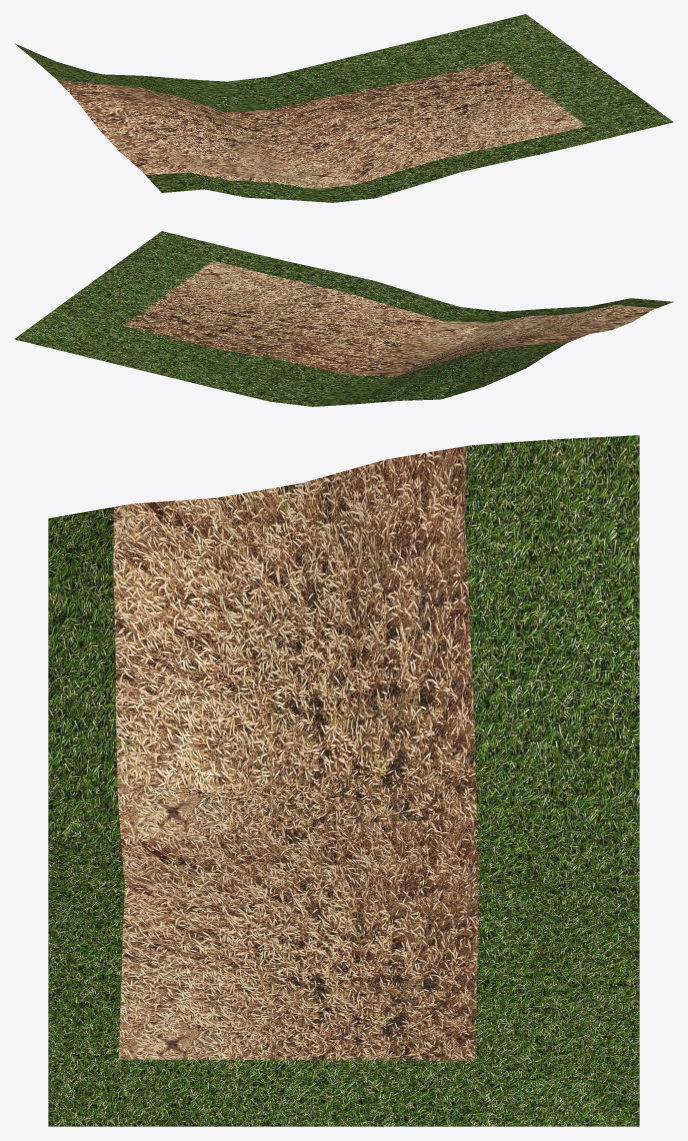
File: pole1.dae
The picture shows the model from 3 angles, top to bottom: view 1: azimuth 30°, elevation 25°; view 2: azimuth 150°, elevation 25°; view 3: azimuth 270°, elevation 25°; orthographic projection. The views are drawn at different scales.
Parts seen in each view (by area): view 1: pole; view 2: pole; view 3: pole.
Part boxes in pixels (x1,y1,x2,y2): pole: [14, 14, 673, 202]; pole: [14, 231, 673, 406]; pole: [48, 435, 639, 1126].
Size of the model in its own units: 200 by 100 by 36.97.
Materials: 1 (1 with a texture image).
